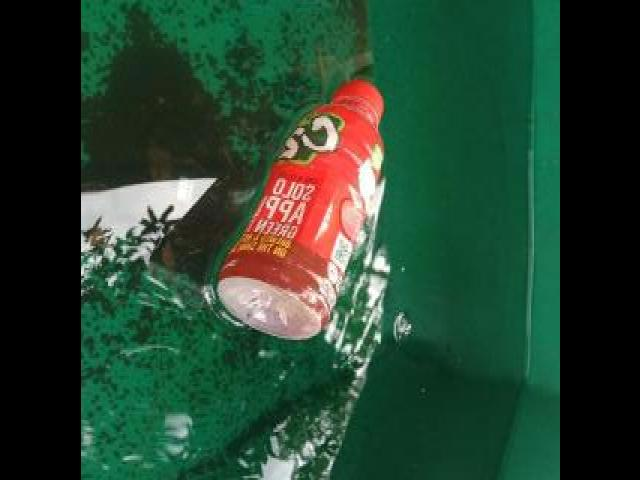Bottle: (210, 70, 392, 352)
